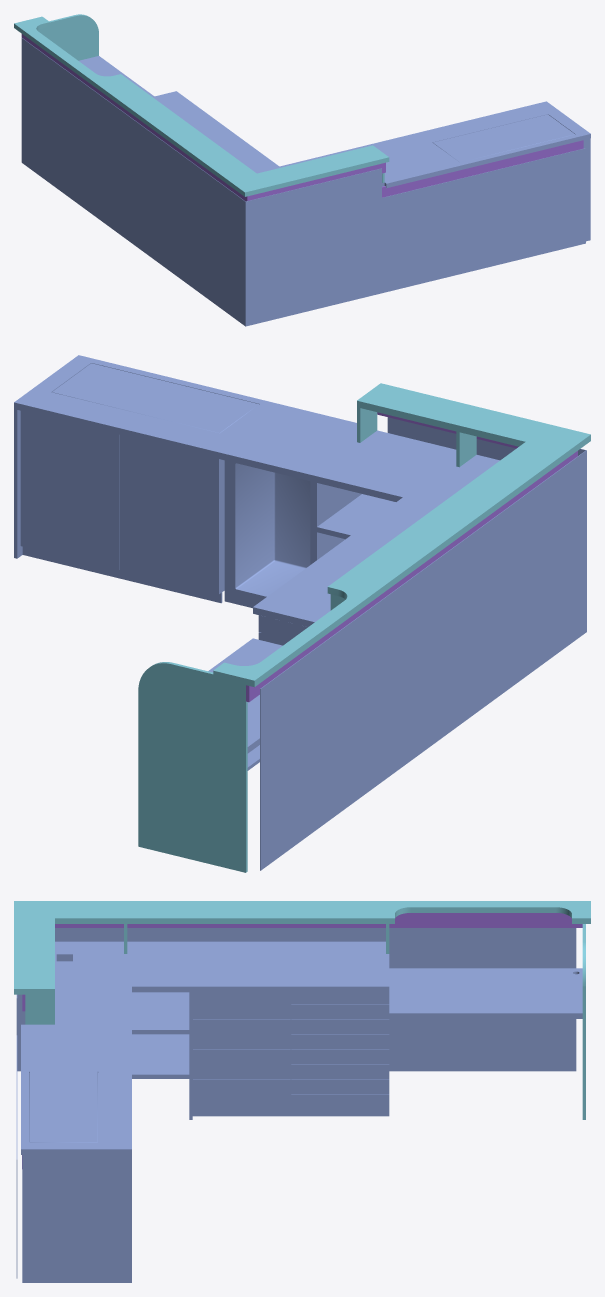
The model's file is verkaufstheke.fbx.
3 views of the same model, one above another, from view 1: azimuth 30°, elevation 25°; view 2: azimuth 150°, elevation 25°; view 3: azimuth 270°, elevation 25° (orthographic). The views are drawn at different scales.
Visible parts, largest first — view 1: verkaufstheke; view 2: verkaufstheke; view 3: verkaufstheke.
Boxes of the visible parts, <box> form: verkaufstheke: <box>14,14,590,326</box>; verkaufstheke: <box>14,355,590,872</box>; verkaufstheke: <box>14,901,590,1282</box>.
Size of the model in its own units: 307 by 114 by 352.
